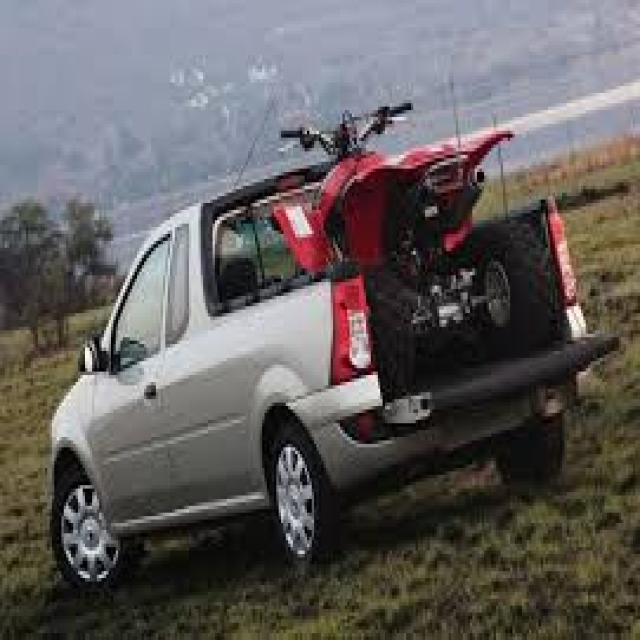Pickup Trucks: (52, 155, 605, 585)
